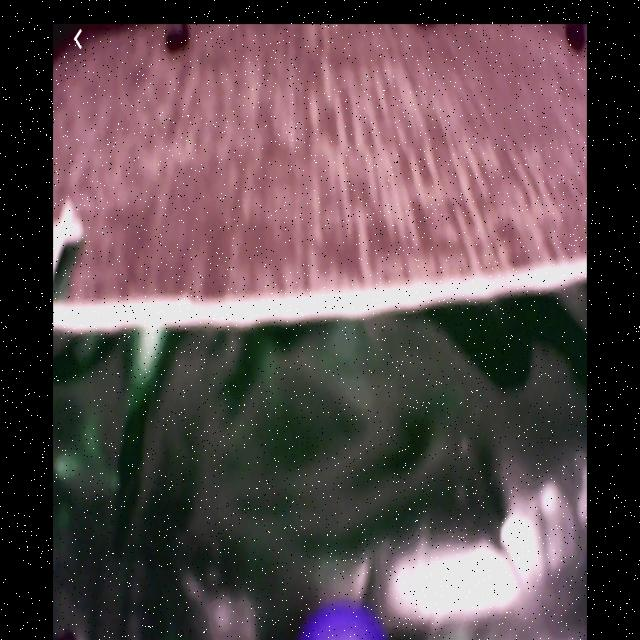ball: (300, 607, 386, 640)
